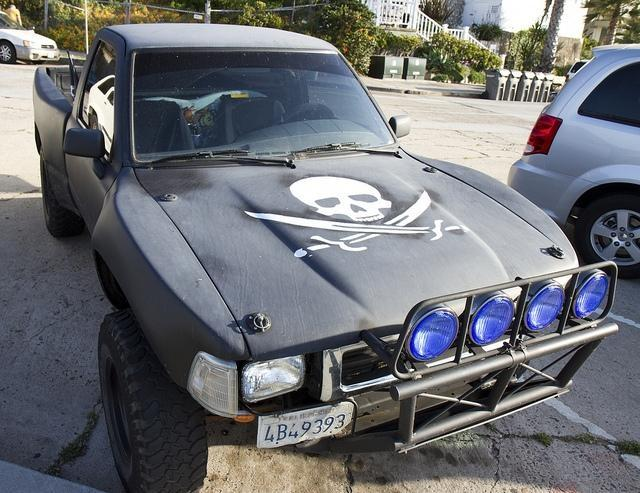car: (508, 44, 640, 274), (0, 11, 61, 65)
truck: (31, 21, 620, 492)
